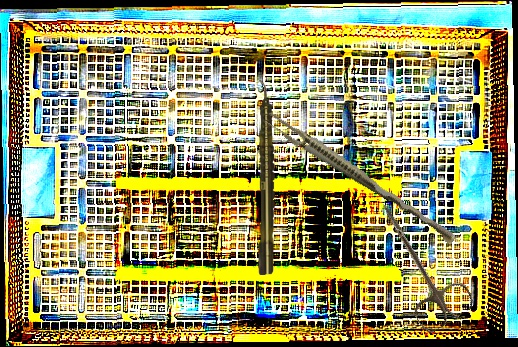Handpiece: (257, 80, 275, 275)
Iris Scissors: (356, 191, 478, 336)
Tissue Forceps: (260, 110, 462, 245)
